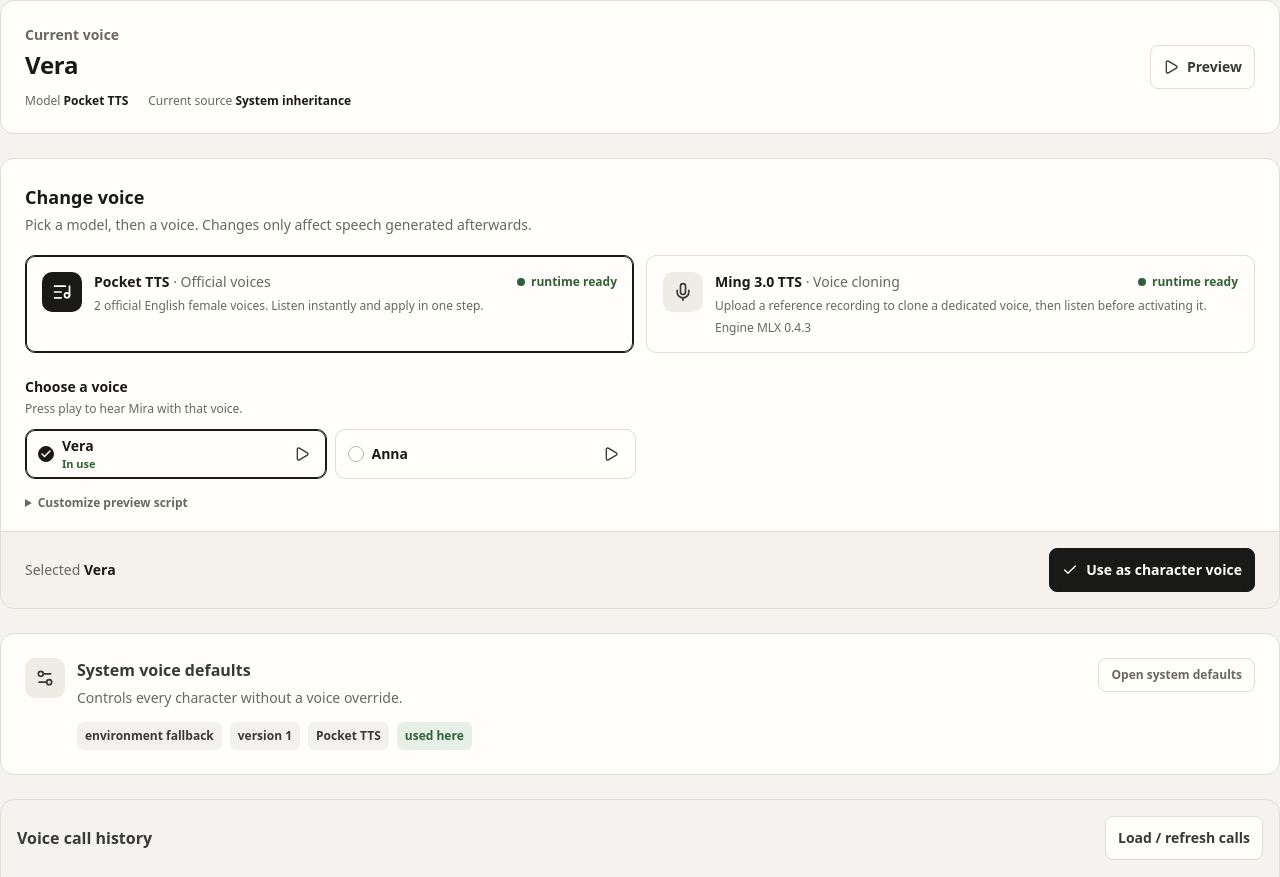
Test: CharacterVoicePanel voice identity controls › shows an audition failure while its target is still selected
Click the button named "Preview Anna" at (611, 454), box x1=591 y1=434 x2=631 y2=474
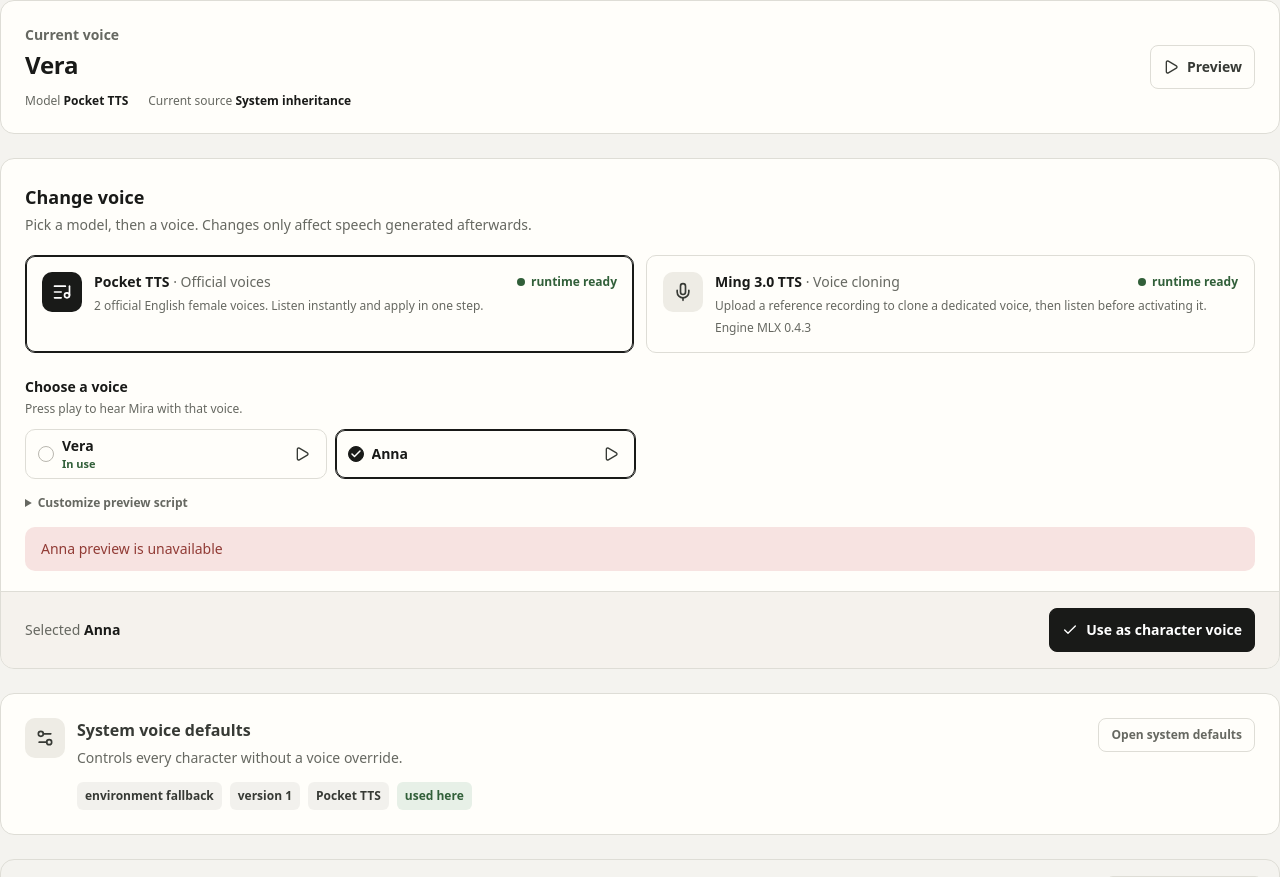
Check: the message "Anna preview is unavailable" is shown, box x1=25 y1=527 x2=1255 y2=571
